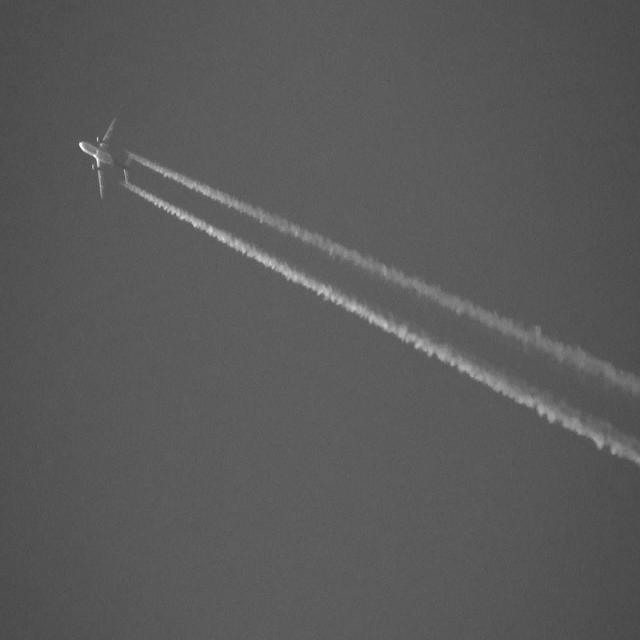aeroplane: (76, 112, 141, 204)
